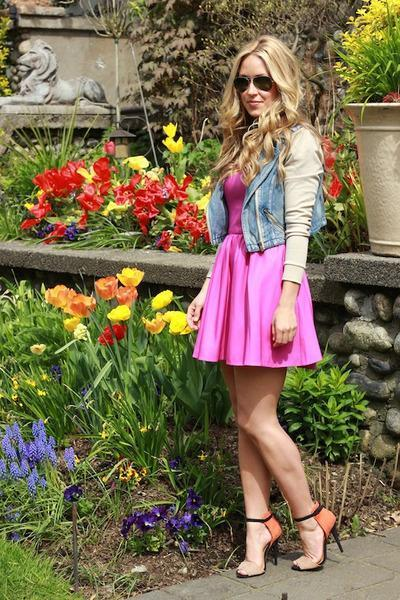dress: (187, 156, 323, 367)
jacket: (197, 108, 323, 275)
shoe: (237, 508, 340, 574)
sunglass: (232, 59, 281, 102)
